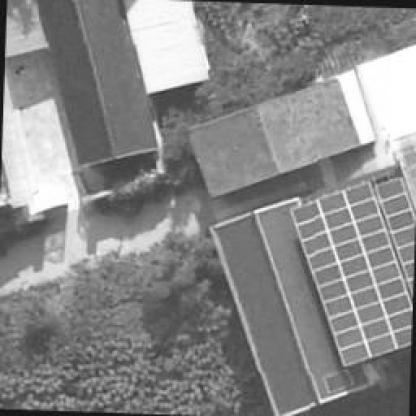solar-pv-panel: (291, 181, 413, 365), (376, 177, 416, 292)
